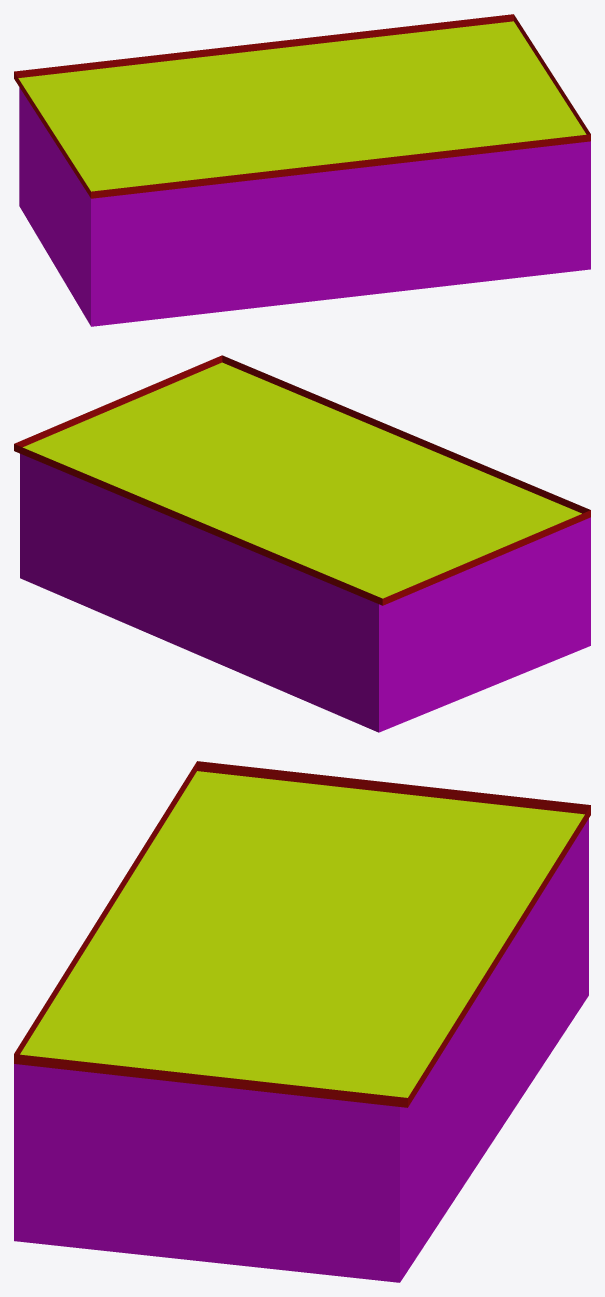
The model's file is bgj_385.glb.
The picture shows the model from 3 angles, top to bottom: view 1: azimuth 30°, elevation 25°; view 2: azimuth 150°, elevation 25°; view 3: azimuth 270°, elevation 25°; orthographic projection. The views are drawn at different scales.
Visible parts, largest first — view 1: bgj_385; view 2: bgj_385; view 3: bgj_385.
Boxes of the visible parts, x1=… form: bgj_385: x1=14, y1=14, x2=590, y2=326; bgj_385: x1=14, y1=355, x2=590, y2=732; bgj_385: x1=14, y1=761, x2=590, y2=1282.
Size of the model in its own units: 25.45 by 6.59 by 18.42.
